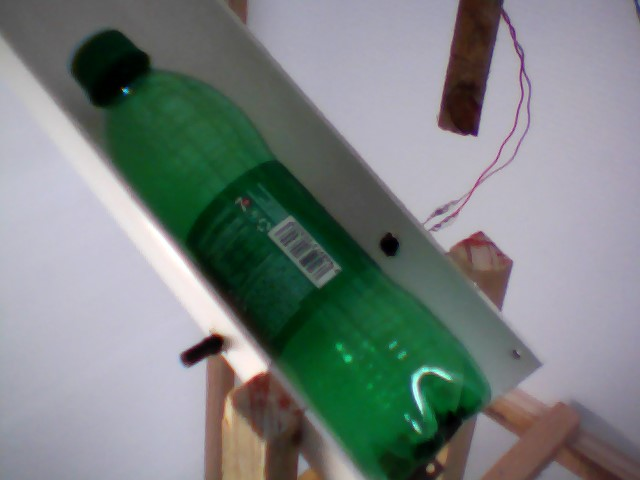plastico: (66, 21, 500, 480)
